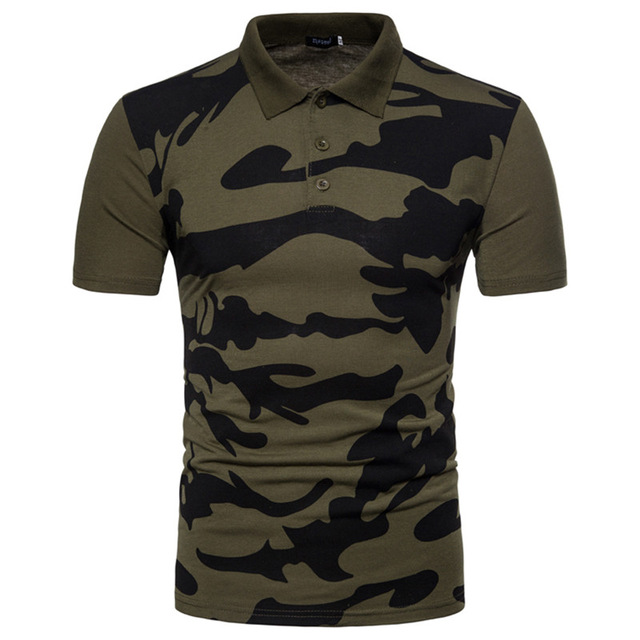T-Shirt: (67, 10, 575, 628)
